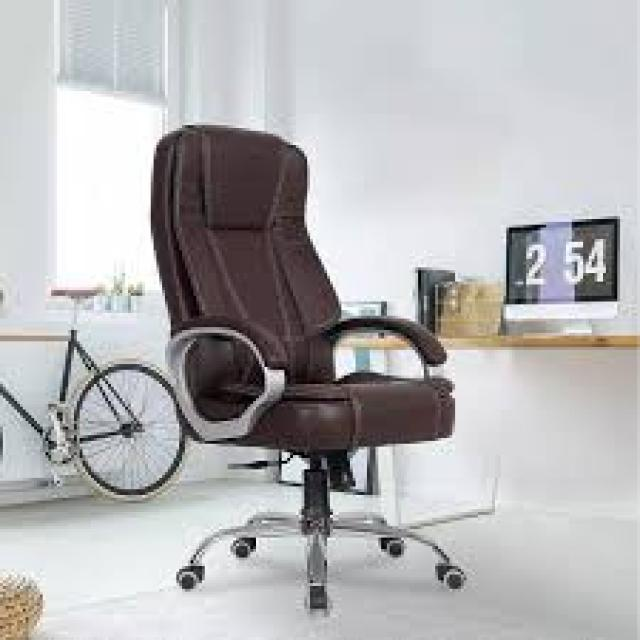chair: (77, 65, 486, 640)
